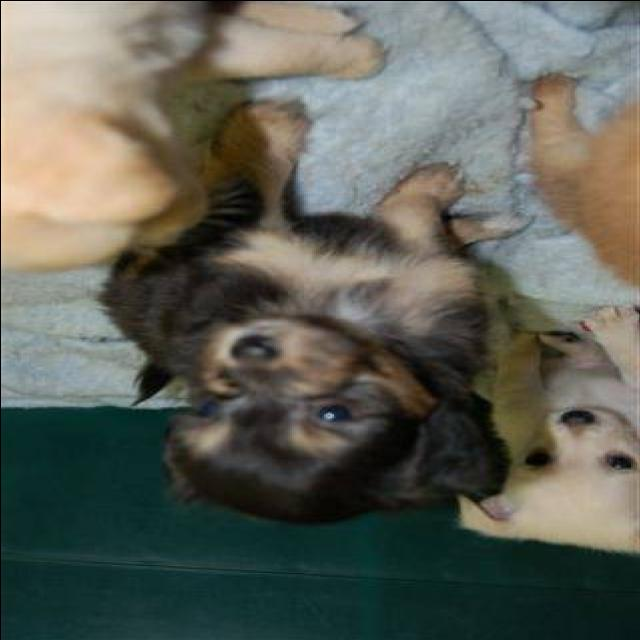dog: (93, 76, 520, 548)
